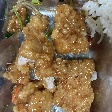guobaorou: (5, 5, 92, 112)
